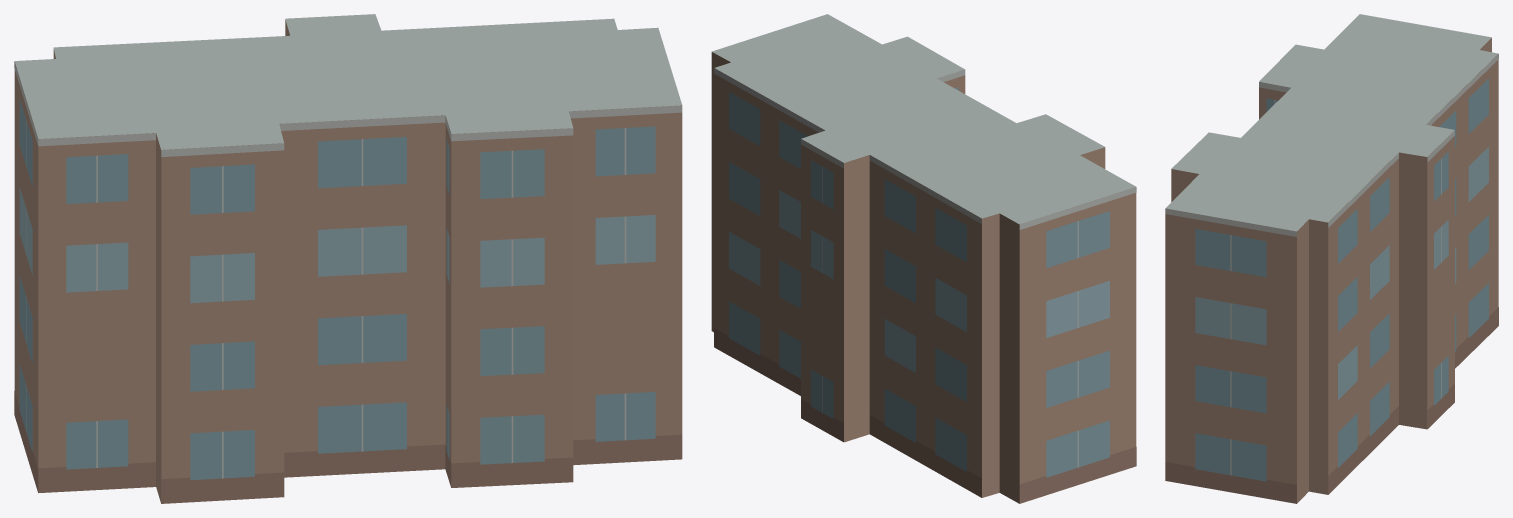
Rendered from survey-upis-32705036.glb.
The picture shows the model from 3 angles, left to right: view 1: azimuth 30°, elevation 25°; view 2: azimuth 150°, elevation 25°; view 3: azimuth 270°, elevation 25°; orthographic projection. The views are drawn at different scales.
Parts seen in each view (by area): view 1: survey-upis-32705036.tmp; view 2: survey-upis-32705036.tmp; view 3: survey-upis-32705036.tmp.
Boxes of the visible parts, x1,y1,x2,y2 form: survey-upis-32705036.tmp: (14, 14, 682, 503); survey-upis-32705036.tmp: (711, 14, 1136, 503); survey-upis-32705036.tmp: (1165, 14, 1498, 503).
Size of the model in its own units: 20.39 by 11.9 by 13.21.
